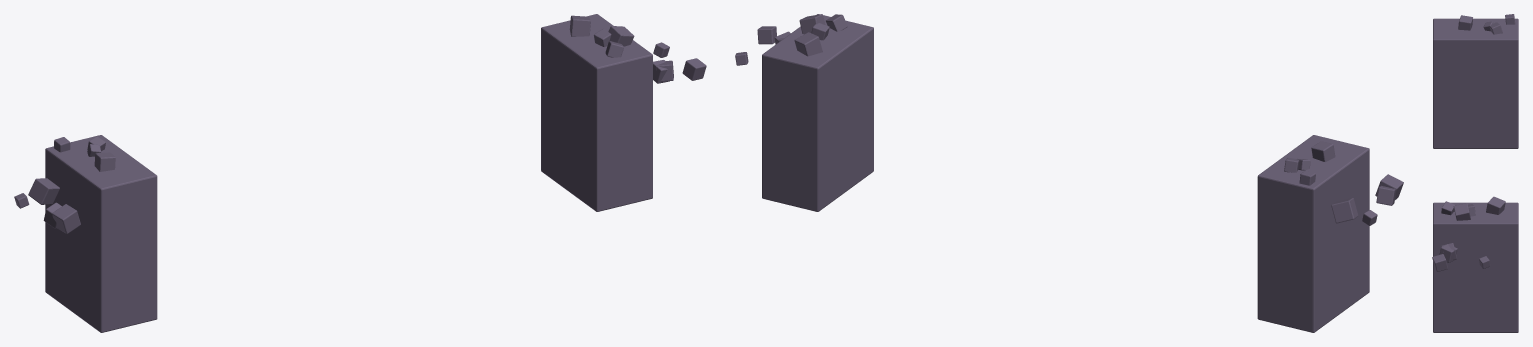
The model's file is EndBlocks_Stone.fbx.
3 views of the same model, side by side, from view 1: azimuth 30°, elevation 25°; view 2: azimuth 150°, elevation 25°; view 3: azimuth 270°, elevation 25° (orthographic). The views are drawn at different scales.
Visible parts, largest first — view 1: EndBlock-1_0.001; view 2: EndBlock-1_0.001; view 3: EndBlock-1_0.001.
Boxes of the visible parts, box(x1,y1,x2,y2) form: EndBlock-1_0.001: box(14, 14, 706, 332); EndBlock-1_0.001: box(735, 14, 1403, 332); EndBlock-1_0.001: box(1432, 14, 1518, 332).
Size of the model in its own units: 16055 by 3797 by 2420.
